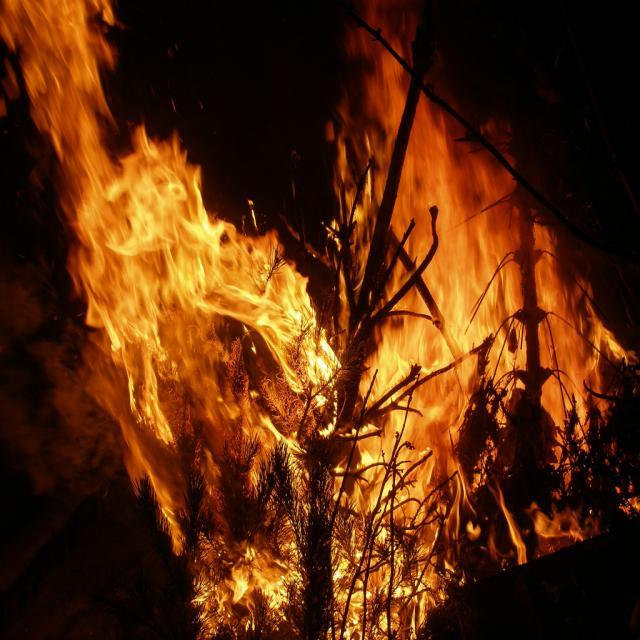Fire: (84, 180, 285, 450), (396, 152, 545, 474)
